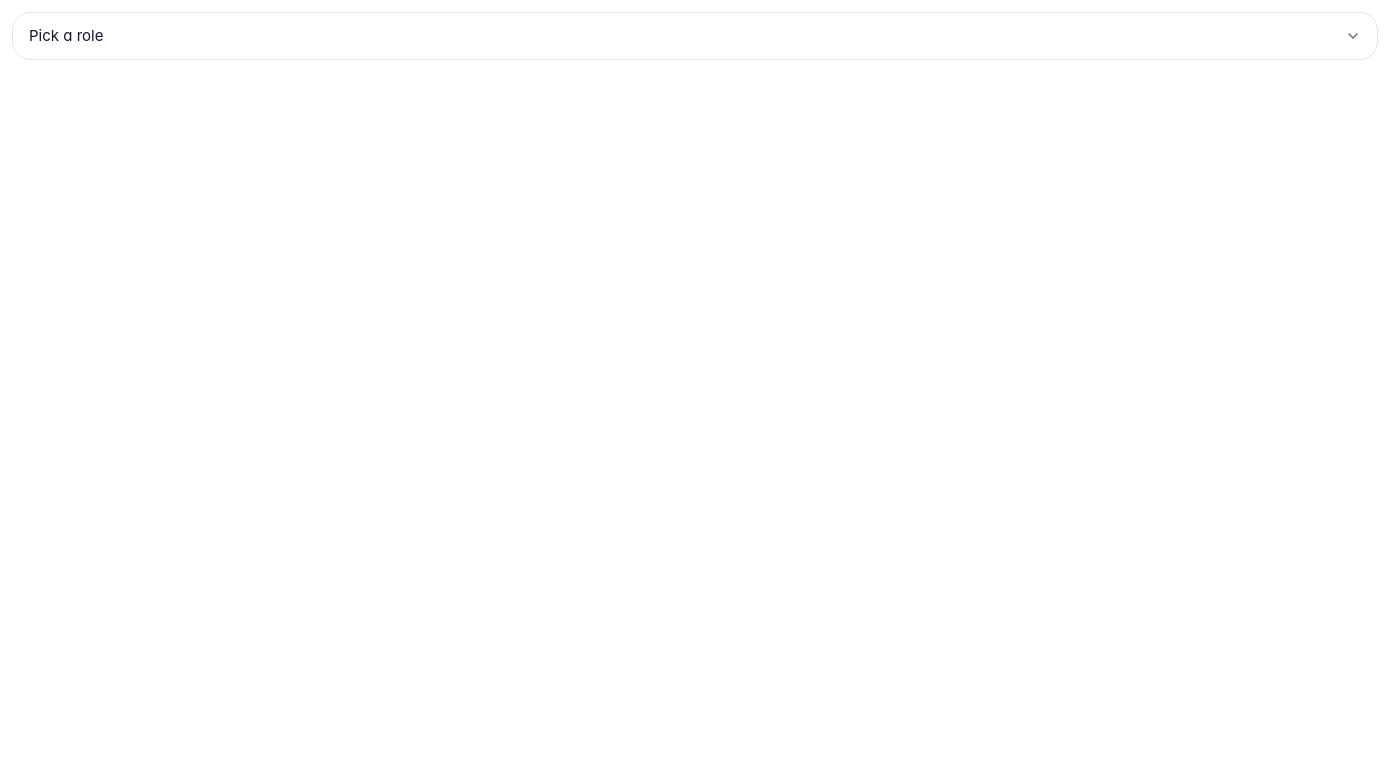
Select › closes when clicking outside
The image size is (1390, 780).
Click the button "Pick a role" at (66, 35), box top-left (12, 12), bottom-right (1378, 60)
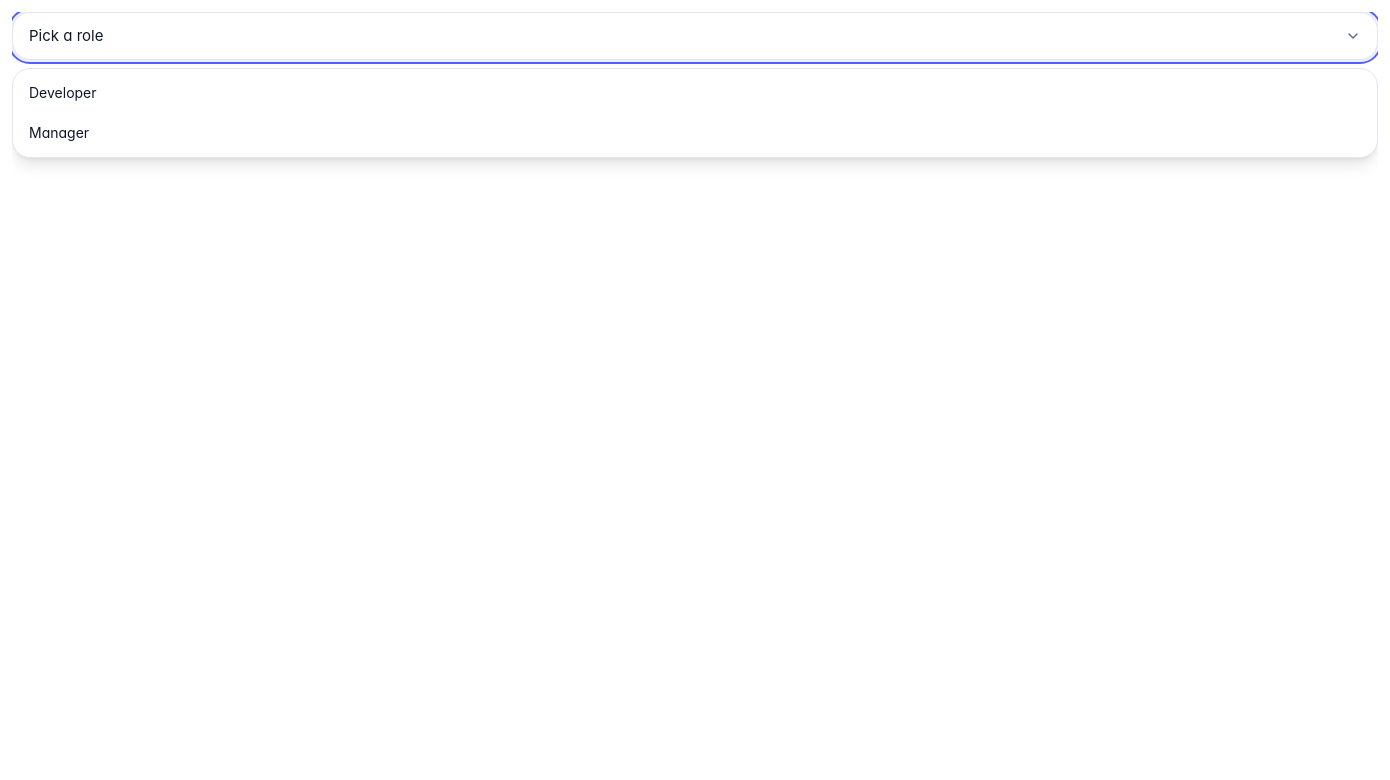
Click the element showing "Pick a role Developer Manager" at (695, 396), box top-left (12, 12), bottom-right (1378, 779)
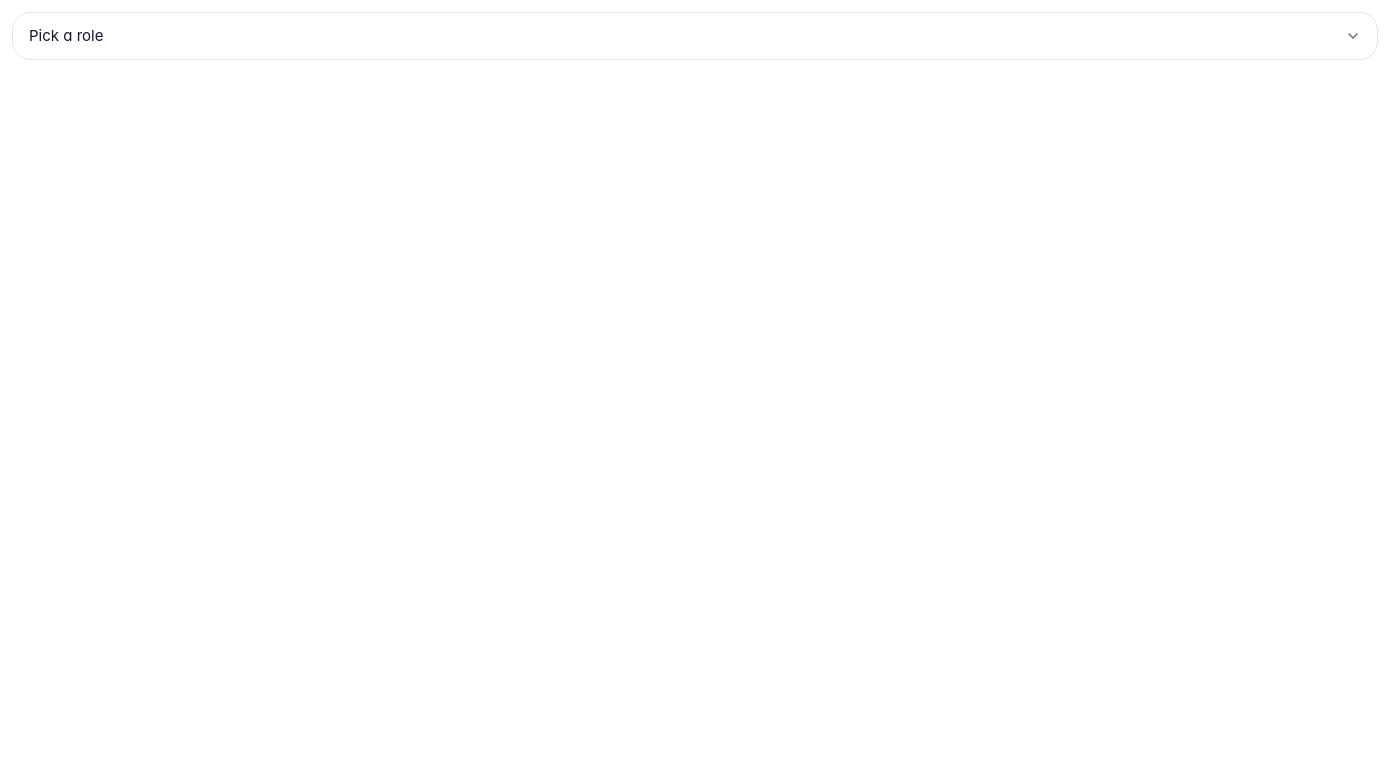
expect the button "Developer" is gone: met
